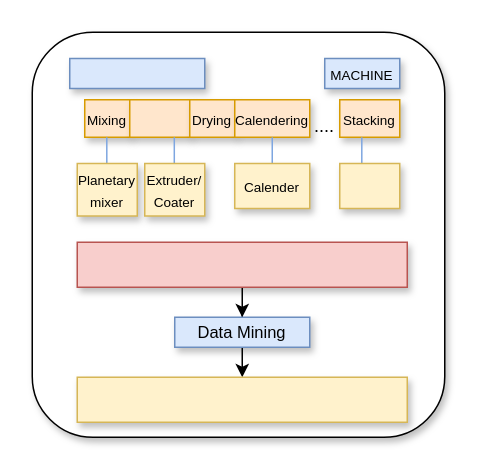
This 480x474 diagram has some shape labels left out. The shapes that lost their labels are listed below. From the top down, each one's centre as x and y in pixels, then its label:
At point 138,75: "PROCESS CHAIN".
At point 160,120: "Coating".
At point 370,187: "Z-Folder".
At point 243,266: "Electrical Power Data".
At point 243,401: "Machine states Identification".
